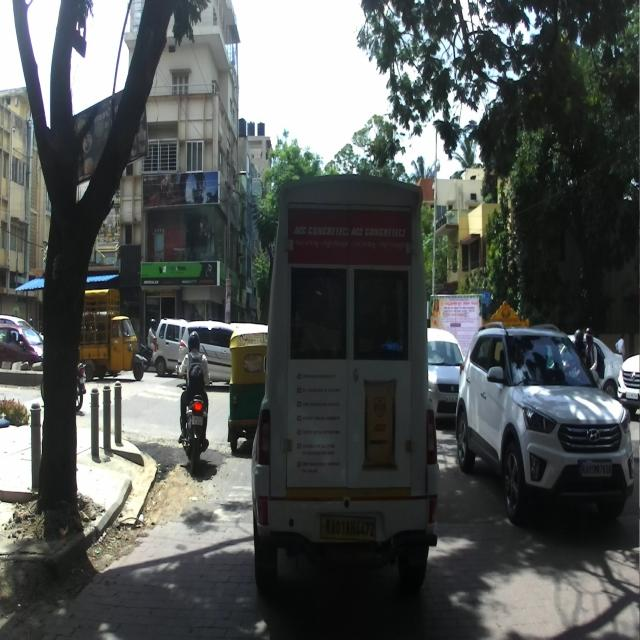autorickshaw: (79, 288, 145, 379)
car: (452, 318, 636, 522), (176, 319, 236, 385)
mini-bus: (250, 173, 440, 609)
